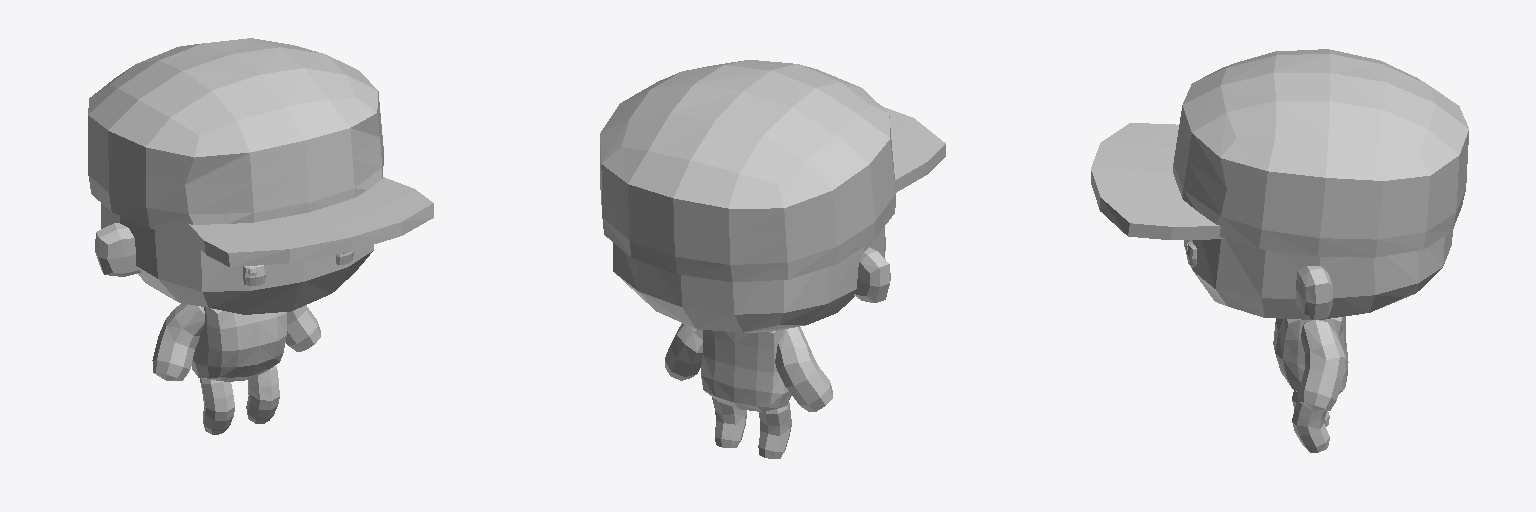
Rendered from idle_0004.obj.
The picture shows the model from 3 angles: view 1: azimuth 30°, elevation 25°; view 2: azimuth 150°, elevation 25°; view 3: azimuth 270°, elevation 25°; orthographic projection.
Visible parts, largest first — view 1: Object_41, Object_42, Object_36, Object_44, Object_38; view 2: Object_41, Object_36, Object_44, Object_42; view 3: Object_41, Object_36, Object_42, Object_44.
Boxes of the visible parts, x1,y1,x2,y2 form: Object_41: [88, 38, 383, 234]; Object_42: [185, 113, 433, 266]; Object_36: [95, 203, 373, 314]; Object_44: [152, 303, 320, 434]; Object_38: [243, 251, 353, 285]; Object_41: [600, 60, 895, 281]; Object_36: [613, 227, 890, 332]; Object_44: [665, 323, 832, 458]; Object_42: [882, 106, 945, 192]; Object_41: [1183, 49, 1468, 257]; Object_36: [1184, 231, 1452, 319]; Object_42: [1091, 105, 1226, 239]; Object_44: [1273, 316, 1348, 452].
Bounding box in the file's own units: 0.9691 × 1.21 × 1.14.